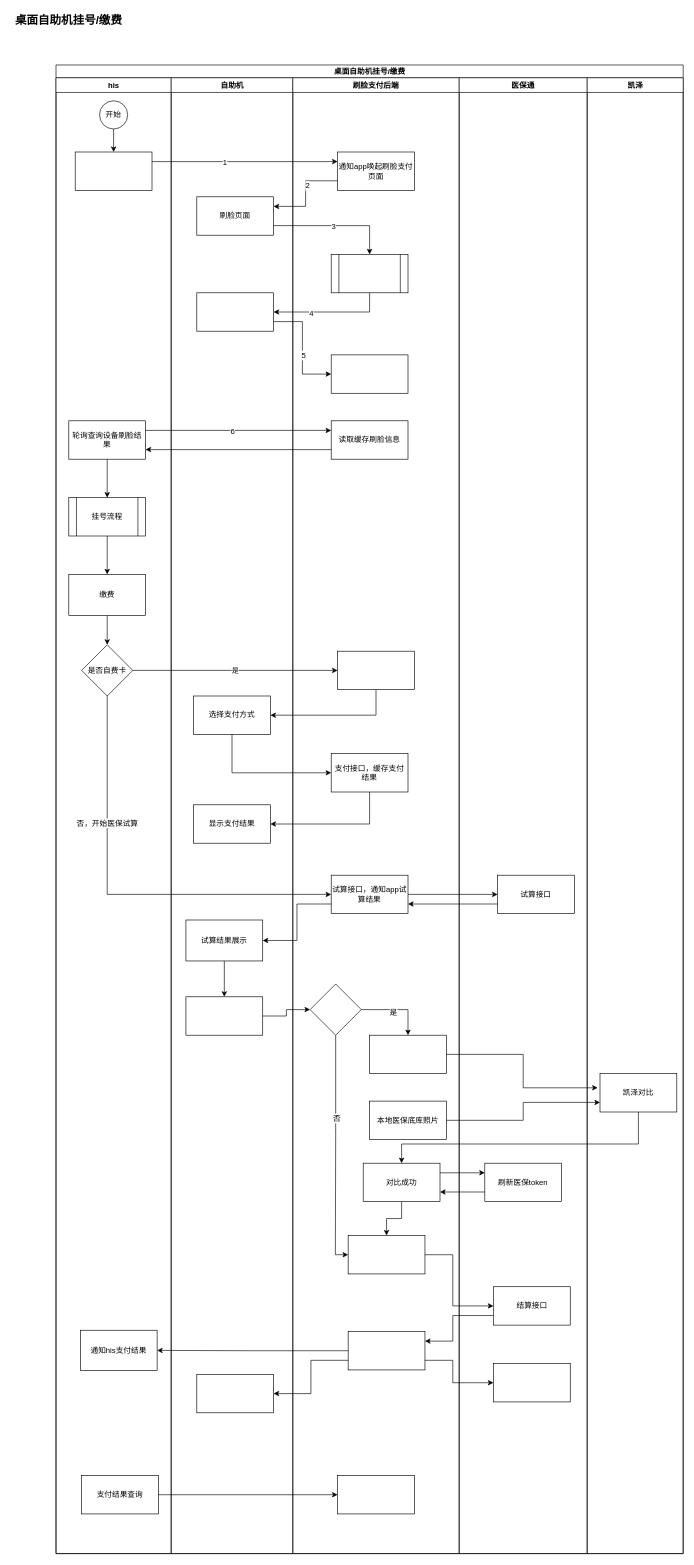
Image size: 694x1565. Some labels were removed from this diagram. Here are the shapes that lost their labels. From the top down, the centre of each, then its label:
(x=113, y=170): 刷脸挂号
(x=369, y=273): 刷脸流程
(x=235, y=311): 获得刷脸结果
(x=369, y=373): 缓存刷脸结果信息
(x=375, y=670): 通知app显示自费金额信息
(x=224, y=1015): 选择自费部分支付方式
(x=335, y=1009): 是否首次
(x=407, y=1054): 调用刷脸获取摄像头采集照片
(x=386, y=1254): 自费支付完成
(x=386, y=1350): 结算完成，交易确认
(x=235, y=1393): 界面展示结果
(x=531, y=1382): 交易确认
(x=375, y=1494): 支付结果
